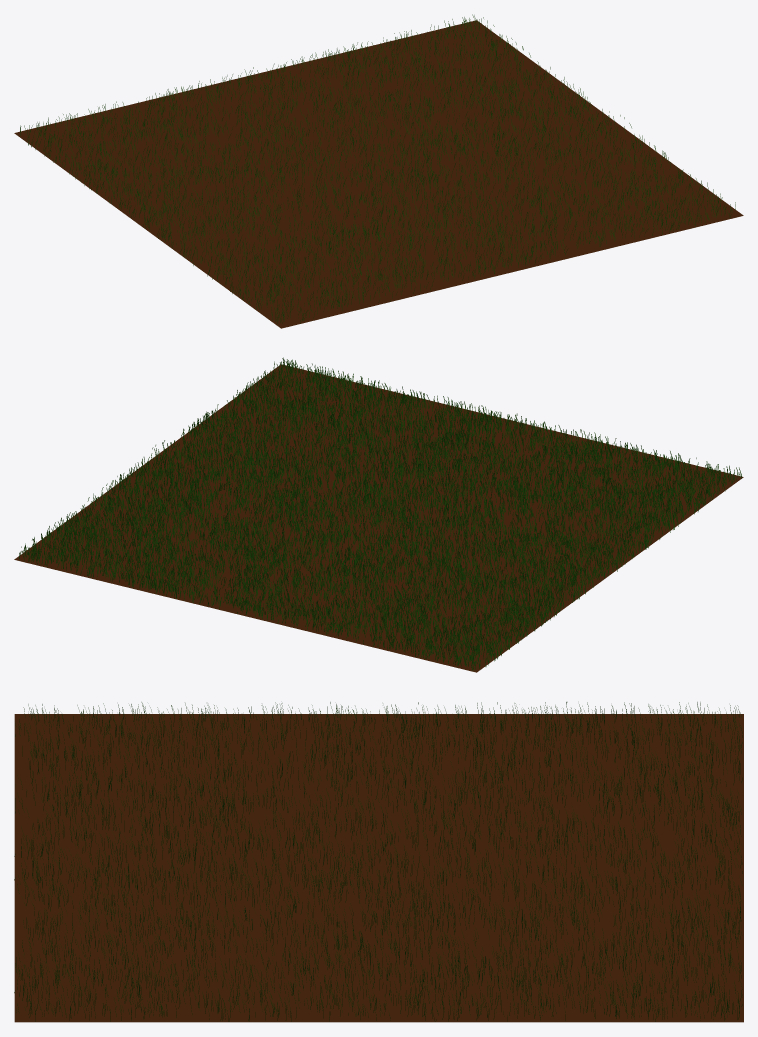
Rendered from Grass.fbx.
The picture shows the model from 3 angles, top to bottom: view 1: azimuth 30°, elevation 25°; view 2: azimuth 150°, elevation 25°; view 3: azimuth 270°, elevation 25°; orthographic projection. The views are drawn at different scales.
Visible parts, largest first — view 1: Plane, grass; view 2: Plane, grass; view 3: Plane, grass.
Boxes of the visible parts, left/top/right/bottom form: Plane: left=14, top=20, right=743, bottom=328; grass: left=20, top=14, right=735, bottom=323; Plane: left=14, top=364, right=743, bottom=672; grass: left=19, top=357, right=741, bottom=670; Plane: left=14, top=714, right=743, bottom=1022; grass: left=14, top=702, right=742, bottom=1021.
Size of the model in its own units: 1392 by 24.25 by 1376.
